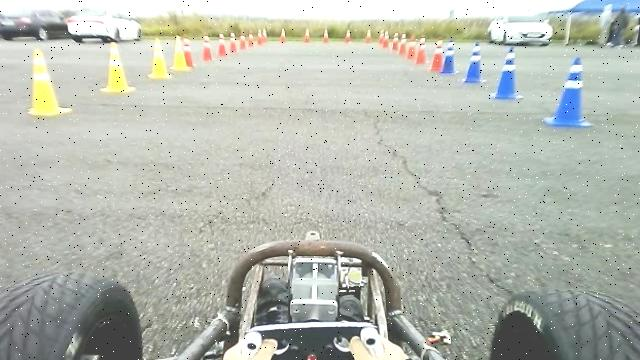blue cone: (543, 55, 594, 126), (492, 46, 525, 99), (461, 40, 488, 83), (440, 40, 460, 74)
red cone: (428, 38, 444, 70), (203, 35, 213, 61)
yellow cone: (28, 47, 73, 116), (100, 41, 137, 93), (148, 37, 172, 78)
